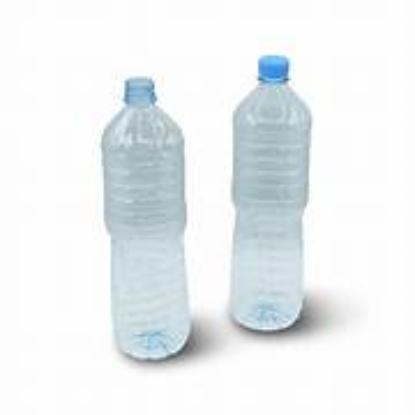Plastic Bottle: (95, 74, 189, 360), (230, 56, 314, 332)
